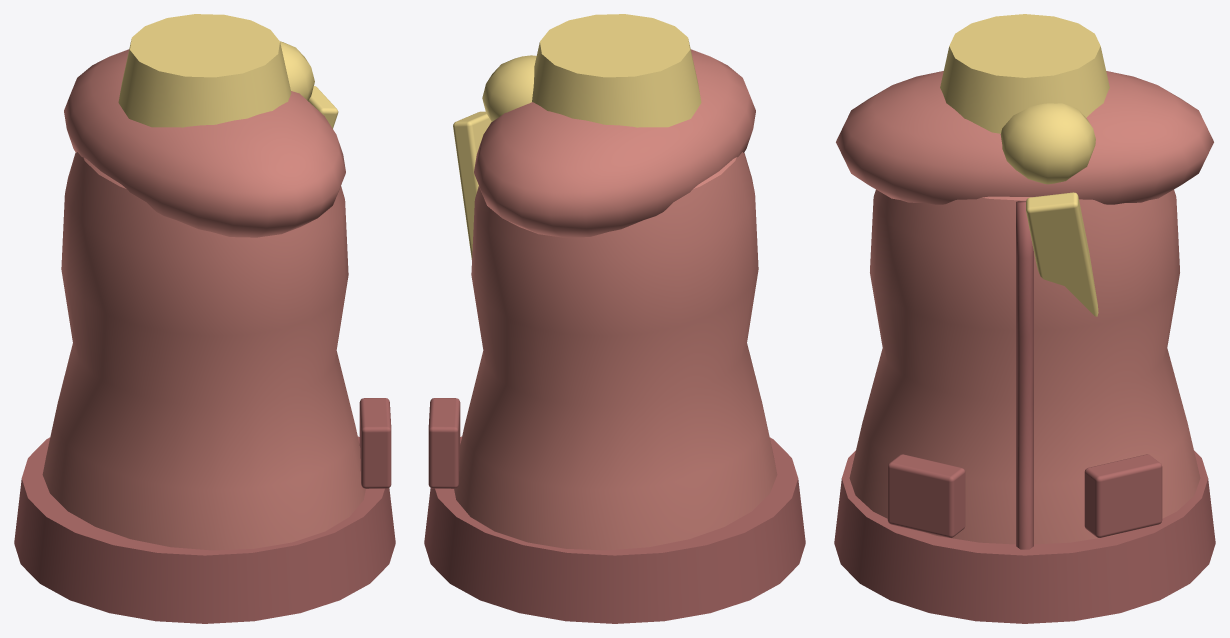
The model's file is gran_body.glb.
3 views of the same model, side by side, from view 1: azimuth 30°, elevation 25°; view 2: azimuth 150°, elevation 25°; view 3: azimuth 270°, elevation 25° (orthographic).
Visible parts, largest first — view 1: gran_body; view 2: gran_body; view 3: gran_body.
Part boxes in pixels (x1=…): gran_body: x1=14, y1=14, x2=395, y2=623; gran_body: x1=424, y1=14, x2=805, y2=623; gran_body: x1=834, y1=14, x2=1215, y2=623.
Size of the model in its own units: 0.504 by 0.725 by 0.504.
